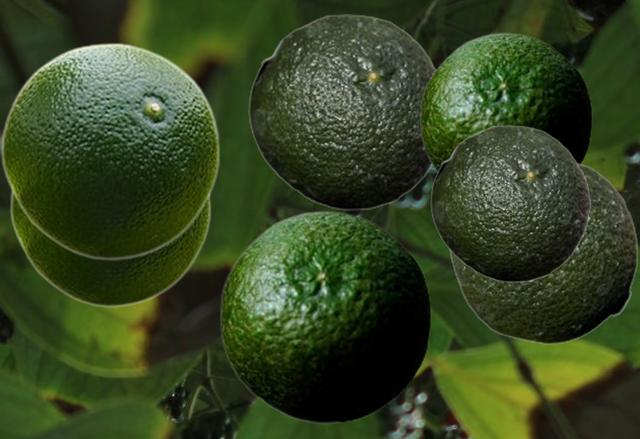calamansi: (0, 42, 220, 259), (219, 210, 430, 423), (248, 14, 436, 209), (449, 159, 637, 343), (430, 125, 590, 281), (419, 32, 591, 172), (9, 189, 211, 306)
